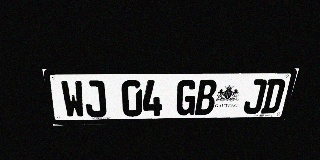0: (121, 80, 142, 117)
4: (143, 80, 163, 116)
B: (195, 79, 218, 115)
D: (260, 79, 287, 114)
G: (175, 80, 198, 116)
J: (83, 80, 107, 118), (242, 79, 268, 114)
W: (60, 80, 86, 118)
